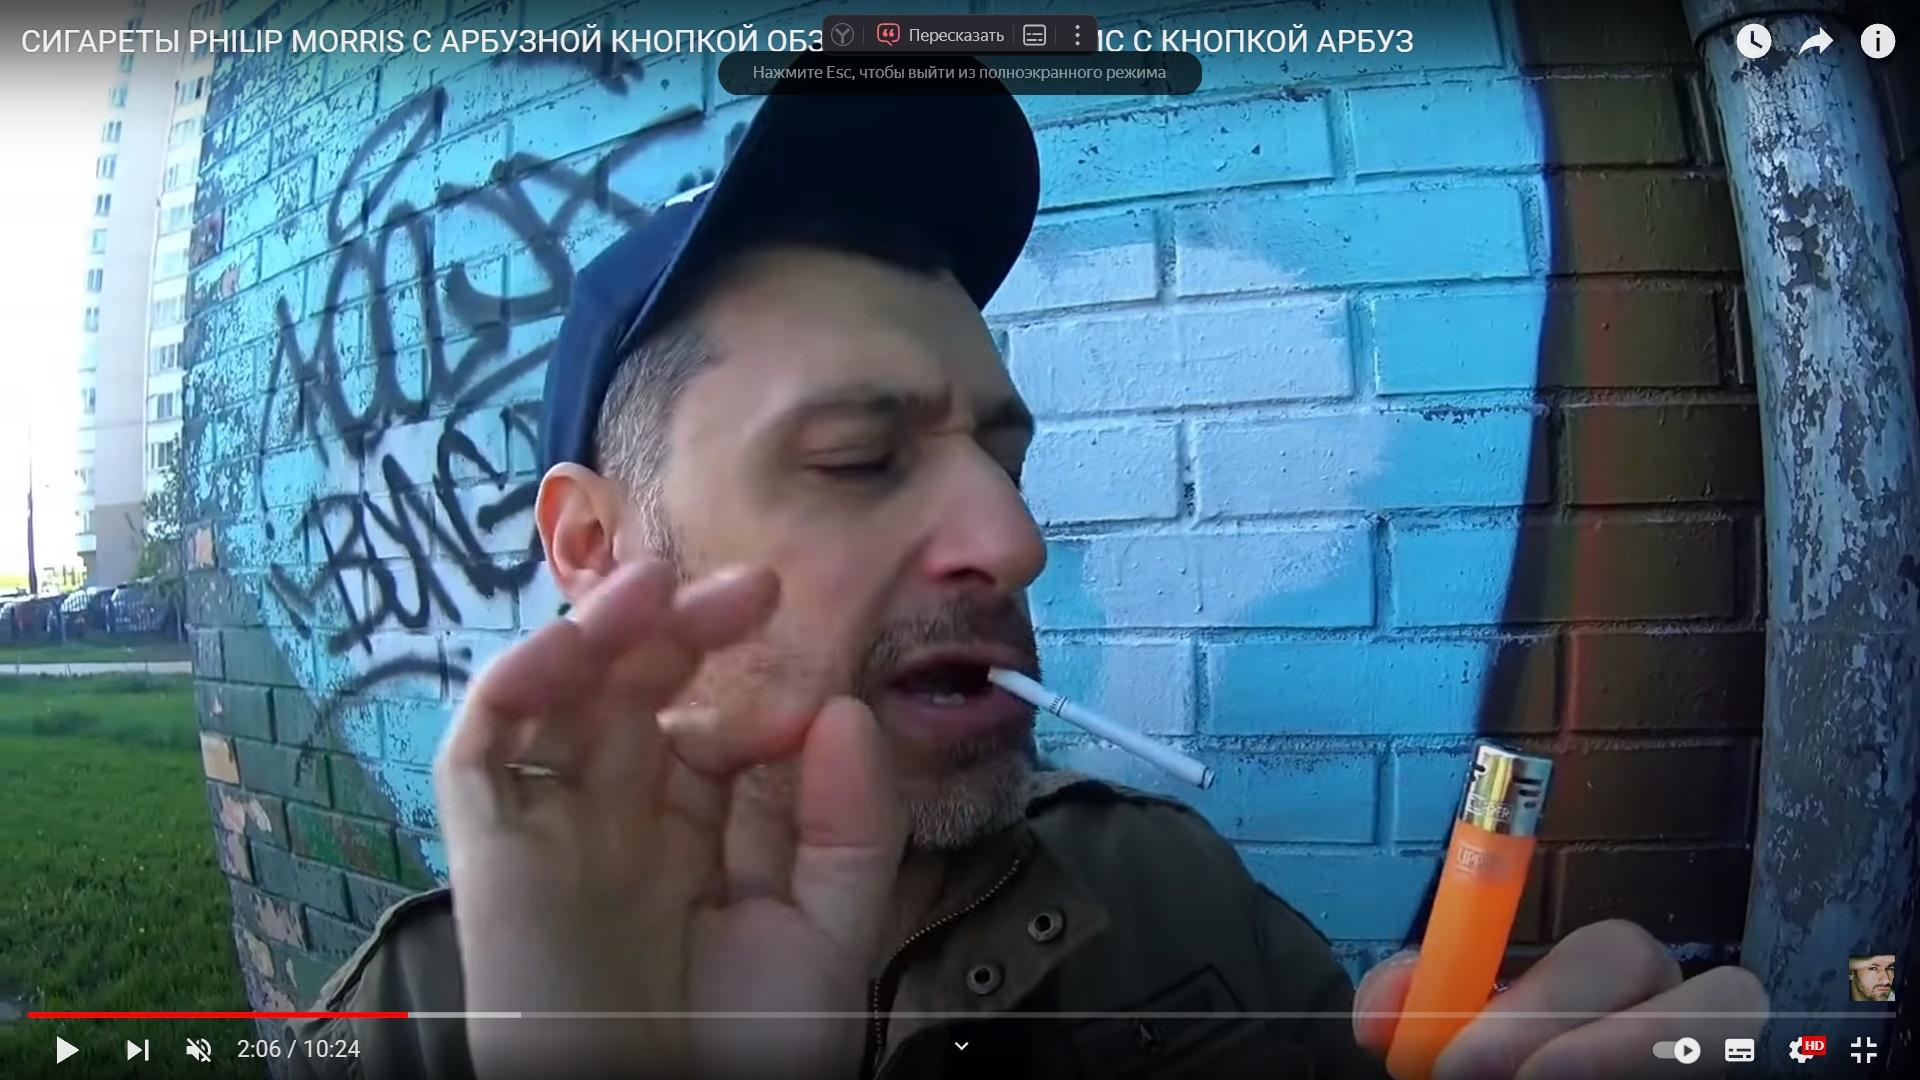cigarette: (985, 665, 1217, 789)
